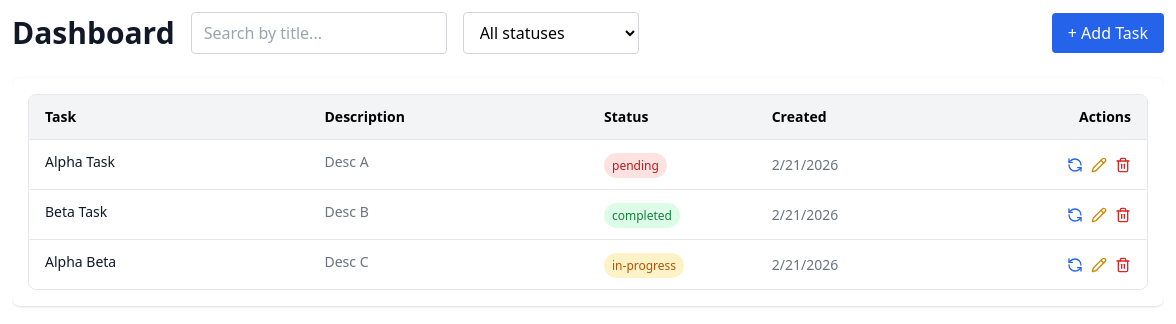
Test case: Dashboard interactions › filters tasks by status
Select "Completed" in the dropdown at {"x": 551, "y": 33}, box top-left (463, 12), bottom-right (639, 54)
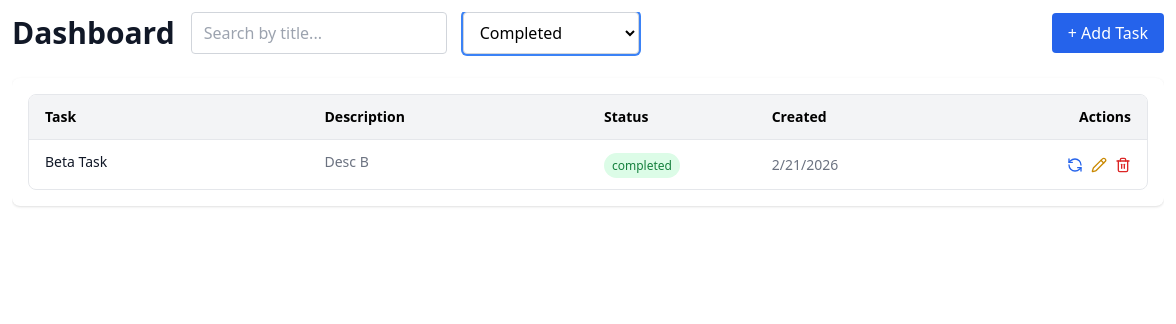
Expected: the text "Beta Task" is shown, top-left (45, 152), bottom-right (107, 172)
Expected: the text "Alpha Task" is gone
Expected: the text "Alpha Beta" is gone
